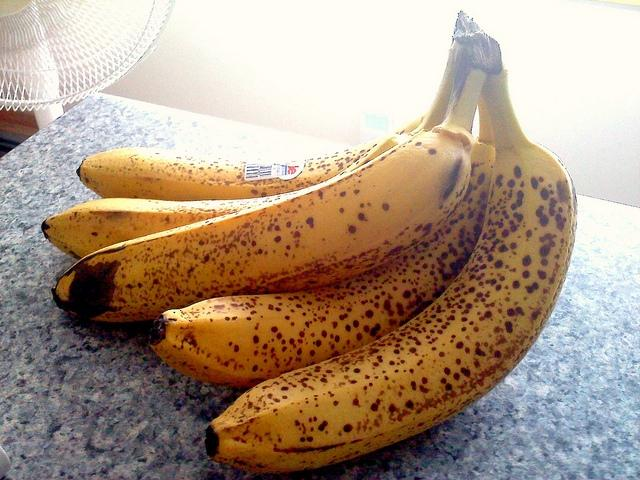banana: (205, 67, 578, 471), (53, 32, 493, 321), (148, 95, 496, 388), (41, 42, 456, 260), (76, 113, 430, 200)
